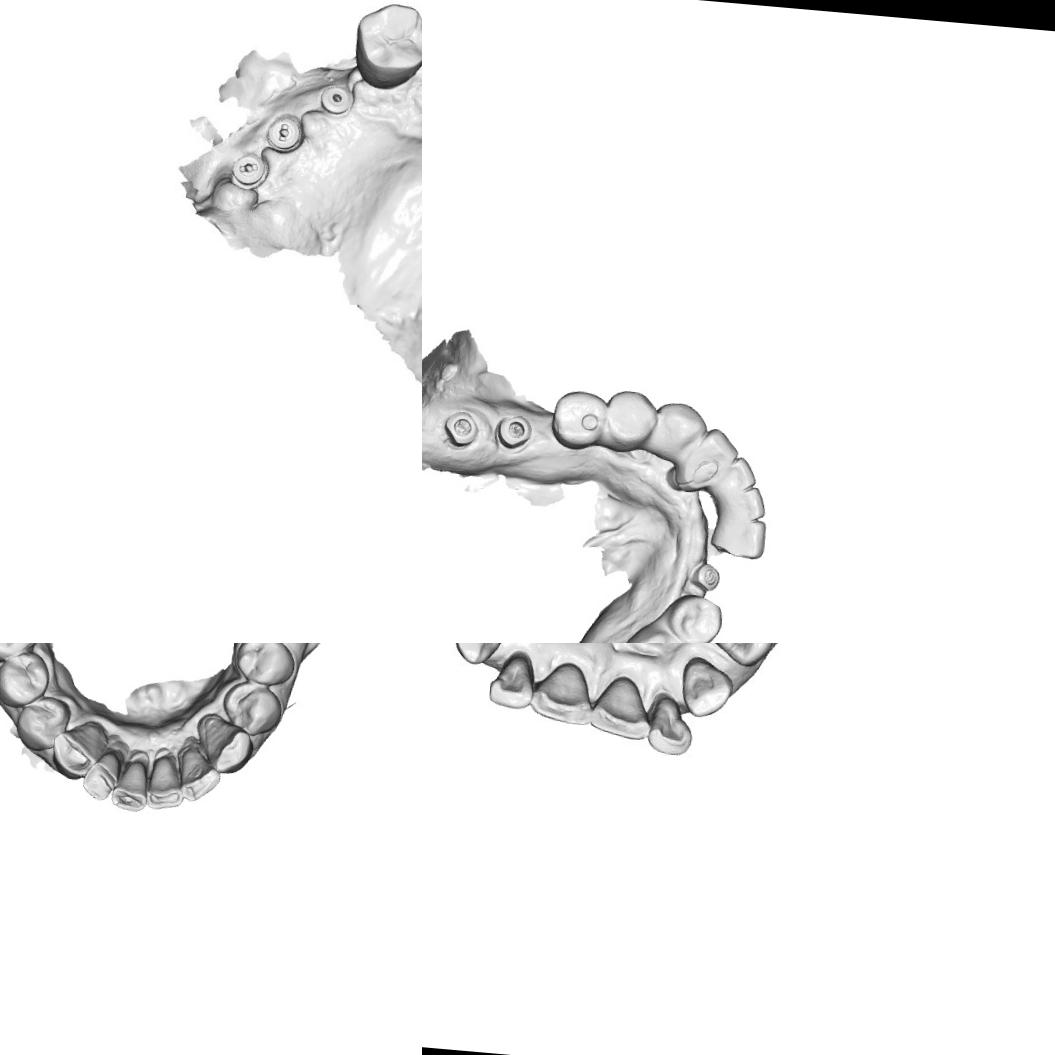canine: (48, 716, 110, 784), (194, 712, 256, 777), (648, 399, 708, 466), (676, 654, 734, 718), (451, 643, 511, 671)
implant: (314, 76, 354, 124), (492, 412, 535, 453), (441, 408, 481, 450), (687, 559, 721, 592)
implant_minus: (260, 106, 303, 160), (226, 149, 270, 192)
incisor: (584, 674, 651, 740), (528, 664, 591, 730), (642, 691, 694, 758), (174, 739, 223, 806), (485, 648, 534, 714), (141, 754, 188, 813), (108, 756, 151, 814), (78, 747, 121, 803), (716, 514, 768, 558), (697, 426, 740, 471), (720, 454, 758, 490), (732, 484, 766, 522)
premolar: (353, 0, 422, 90), (216, 678, 285, 740), (12, 690, 73, 756), (547, 386, 607, 452), (602, 387, 659, 454), (660, 590, 724, 643), (0, 646, 52, 711), (232, 643, 299, 687), (706, 643, 775, 669), (624, 622, 688, 643)
